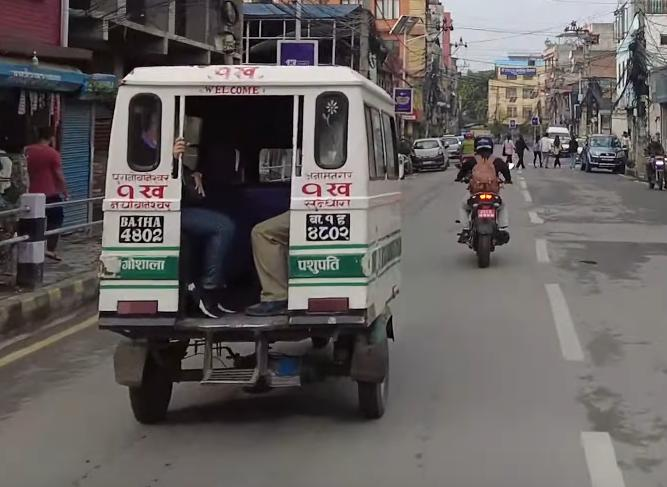bike: (454, 160, 515, 272), (644, 149, 667, 184)
car: (579, 131, 629, 174)
micro_bus: (542, 125, 573, 155)
tempo: (91, 61, 406, 427)
